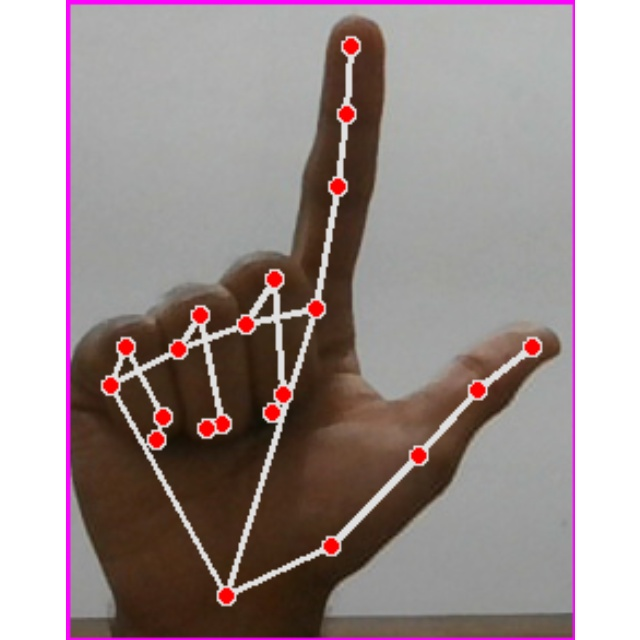L: (66, 0, 575, 640)
